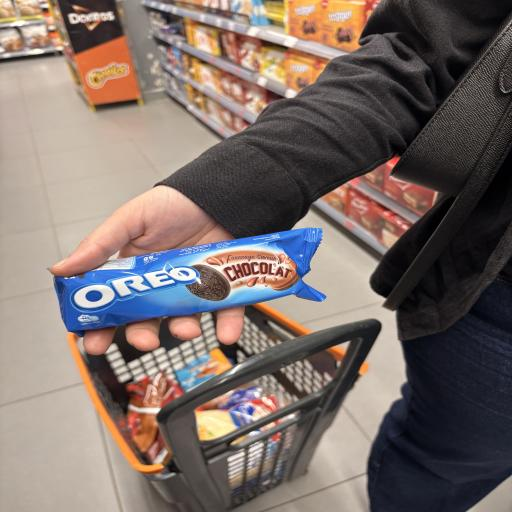oreo: (40, 206, 362, 356)
